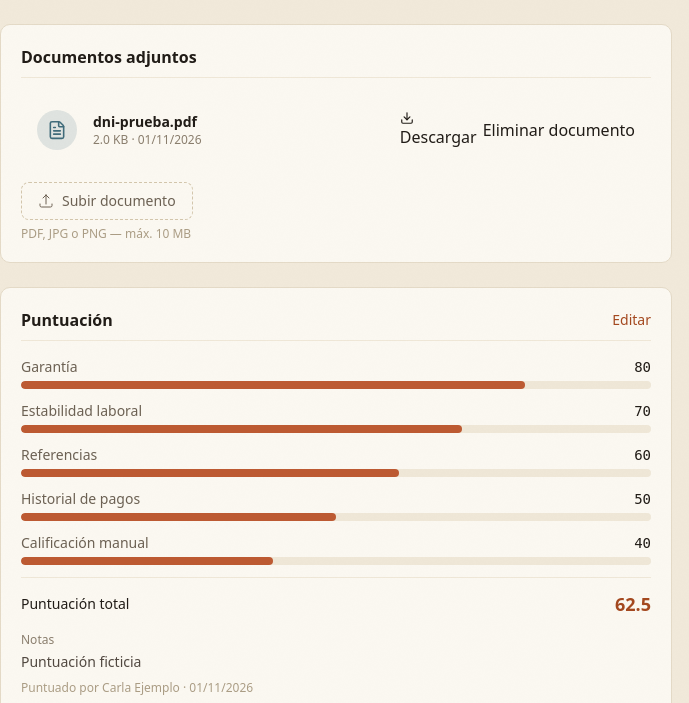
Scenario: PersonDetailPage › edita la puntuación, cancela y vuelve a los valores guardados
(page scrolled)
Expected: the text "62.5" is shown, x1=615 y1=590 x2=651 y2=618
Click the button "Editar" at (632, 320), box x1=612 y1=310 x2=651 y2=330
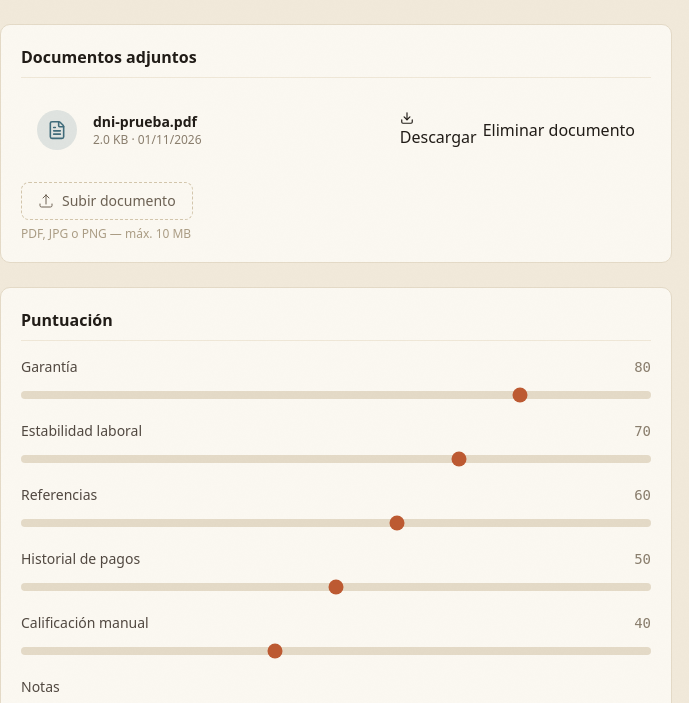
Set the slider labelled "Referencias" to "500" at (336, 523), box x1=21 y1=519 x2=651 y2=527
(page scrolled)
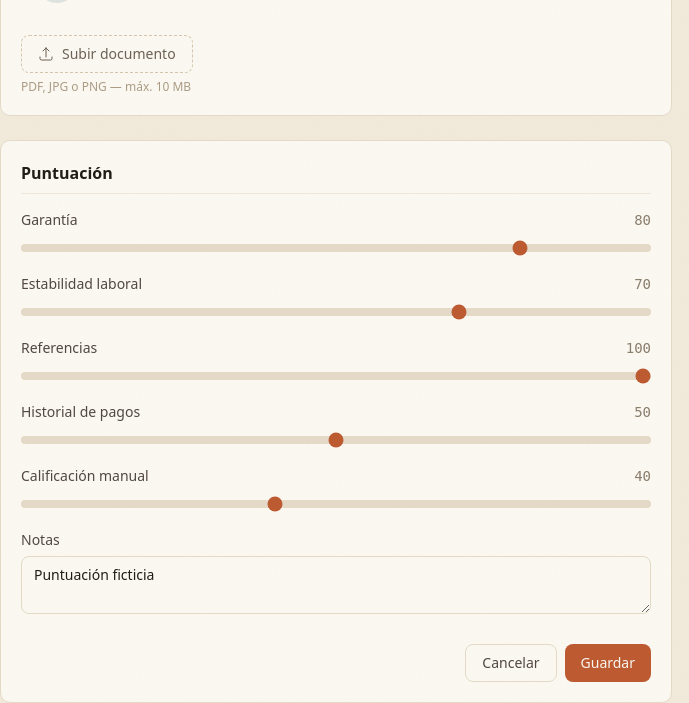
Click the button "Cancelar" at (511, 663), box x1=465 y1=644 x2=556 y2=682
(page scrolled)
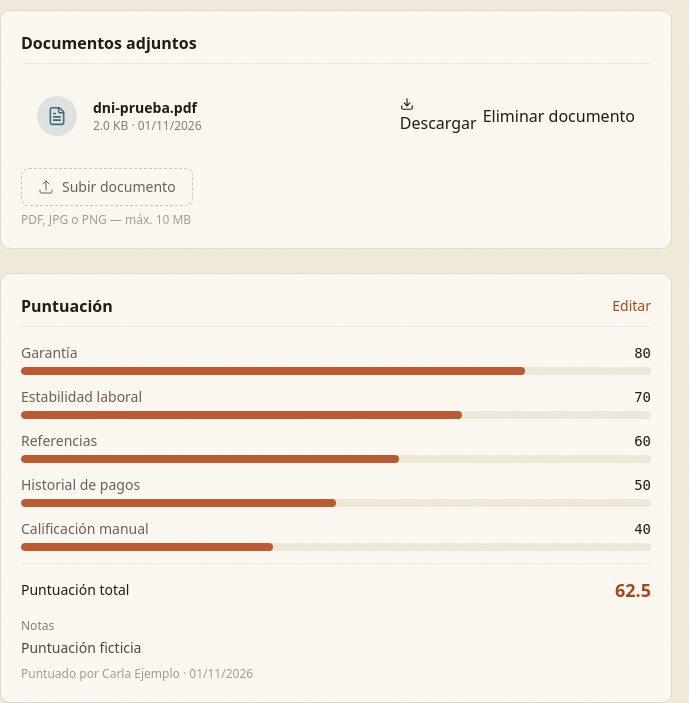
Expected: the text "62.5" is shown, x1=615 y1=576 x2=651 y2=604
